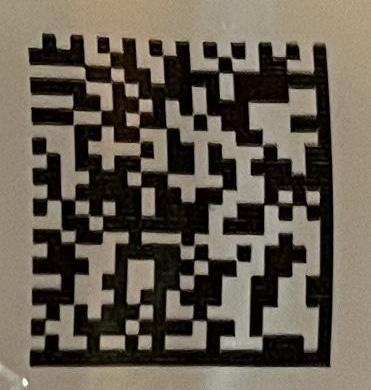datamatrix: (28, 33, 335, 368)
